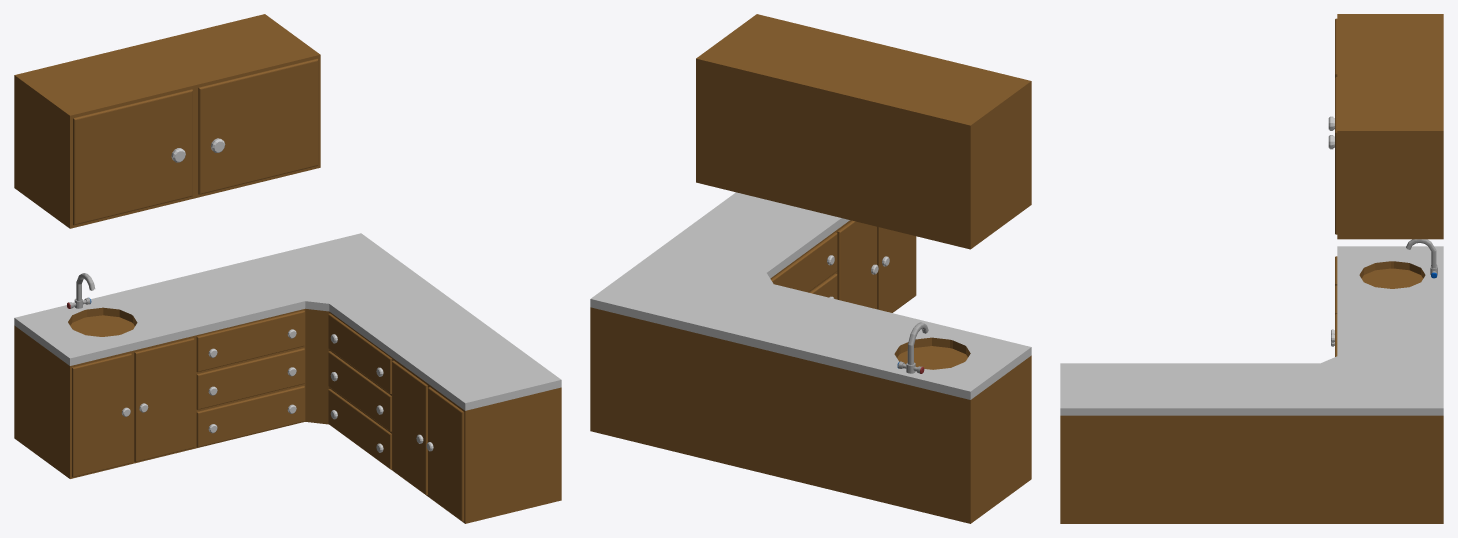
File: Kitchen_1.fbx
3 views of the same model, side by side, from view 1: azimuth 30°, elevation 25°; view 2: azimuth 150°, elevation 25°; view 3: azimuth 270°, elevation 25° (orthographic). The views are drawn at different scales.
Visible parts, largest first — view 1: Kitchen_1, Kitchen_1 Door_12, Kitchen_1 Door_11, Kitchen_1 Door_10, Kitchen_1 Door_9, Kitchen_1 Door_7, Kitchen_1 Door_8, Kitchen_1 Door_2, Kitchen_1 Door_6, Kitchen_1 Door_1, Kitchen_1 Door_5, Kitchen_1 Door_3 (+1 smaller); view 2: Kitchen_1, Kitchen_1 Door_8, Kitchen_1 Door_7, Kitchen_1 Door_5, Kitchen_1_Sink; view 3: Kitchen_1, Kitchen_1 Door_12.
Part boxes in pixels (left/top/right/bottom): Kitchen_1: left=14, top=14, right=561, bottom=523; Kitchen_1 Door_12: left=198, top=58, right=318, bottom=194; Kitchen_1 Door_11: left=73, top=89, right=192, bottom=225; Kitchen_1 Door_10: left=134, top=338, right=194, bottom=461; Kitchen_1 Door_9: left=72, top=353, right=131, bottom=477; Kitchen_1 Door_7: left=426, top=387, right=464, bottom=521; Kitchen_1 Door_8: left=392, top=360, right=427, bottom=495; Kitchen_1 Door_2: left=196, top=386, right=304, bottom=447; Kitchen_1 Door_6: left=196, top=348, right=304, bottom=409; Kitchen_1 Door_1: left=196, top=310, right=304, bottom=372; Kitchen_1 Door_5: left=328, top=313, right=392, bottom=393; Kitchen_1 Door_3: left=328, top=351, right=391, bottom=431; Kitchen_1: left=590, top=14, right=1031, bottom=523; Kitchen_1 Door_8: left=837, top=220, right=878, bottom=308; Kitchen_1 Door_7: left=877, top=227, right=916, bottom=312; Kitchen_1 Door_5: left=771, top=232, right=837, bottom=292; Kitchen_1_Sink: left=897, top=322, right=928, bottom=373; Kitchen_1: left=1060, top=14, right=1443, bottom=523; Kitchen_1 Door_12: left=1328, top=77, right=1337, bottom=234.
Size of the model in its own units: 2.42 by 2.43 by 2.42.
